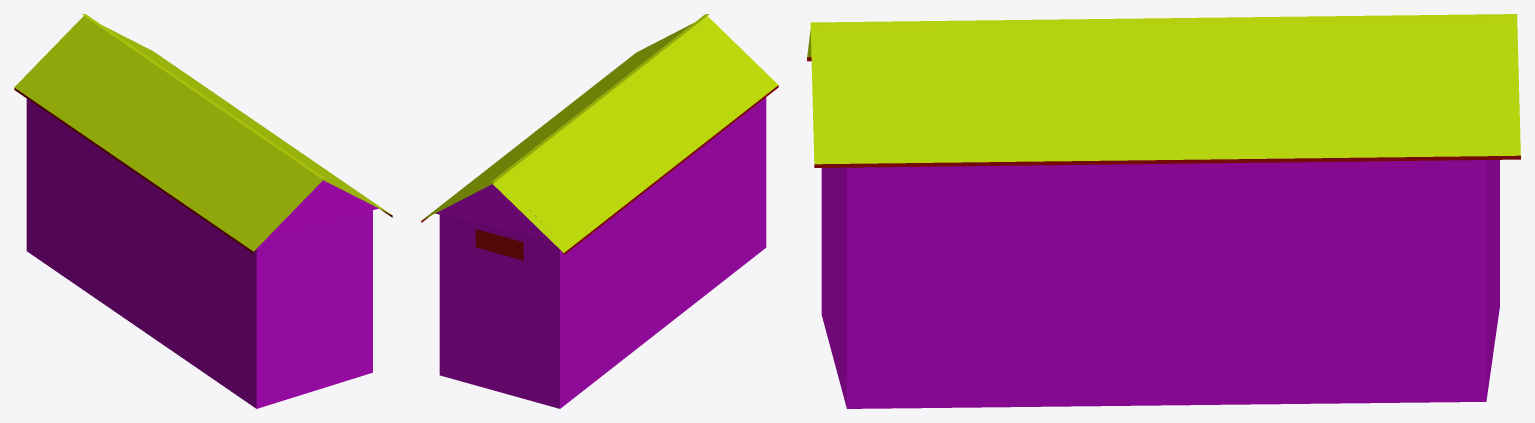
File: bgj_236.glb
3 renders of one model, left to right at view 1: azimuth 30°, elevation 25°; view 2: azimuth 150°, elevation 25°; view 3: azimuth 270°, elevation 25°, orthographic. The views are drawn at different scales.
Parts seen in each view (by area): view 1: bgj_236; view 2: bgj_236; view 3: bgj_236.
Part boxes in pixels (left/top/right/bottom): bgj_236: left=14, top=14, right=392, bottom=408; bgj_236: left=421, top=14, right=778, bottom=408; bgj_236: left=807, top=14, right=1520, bottom=408.
Size of the model in its own units: 7.74 by 10.58 by 20.24.
